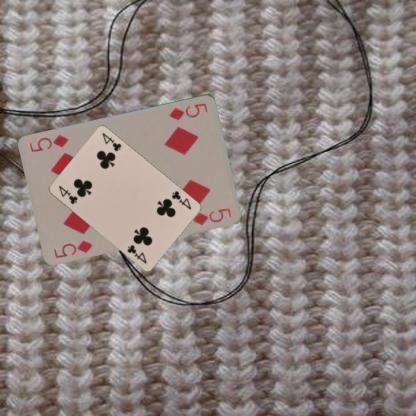4c: (168, 188, 192, 211), (56, 182, 78, 206)
5d: (51, 236, 94, 260), (166, 100, 210, 122)
